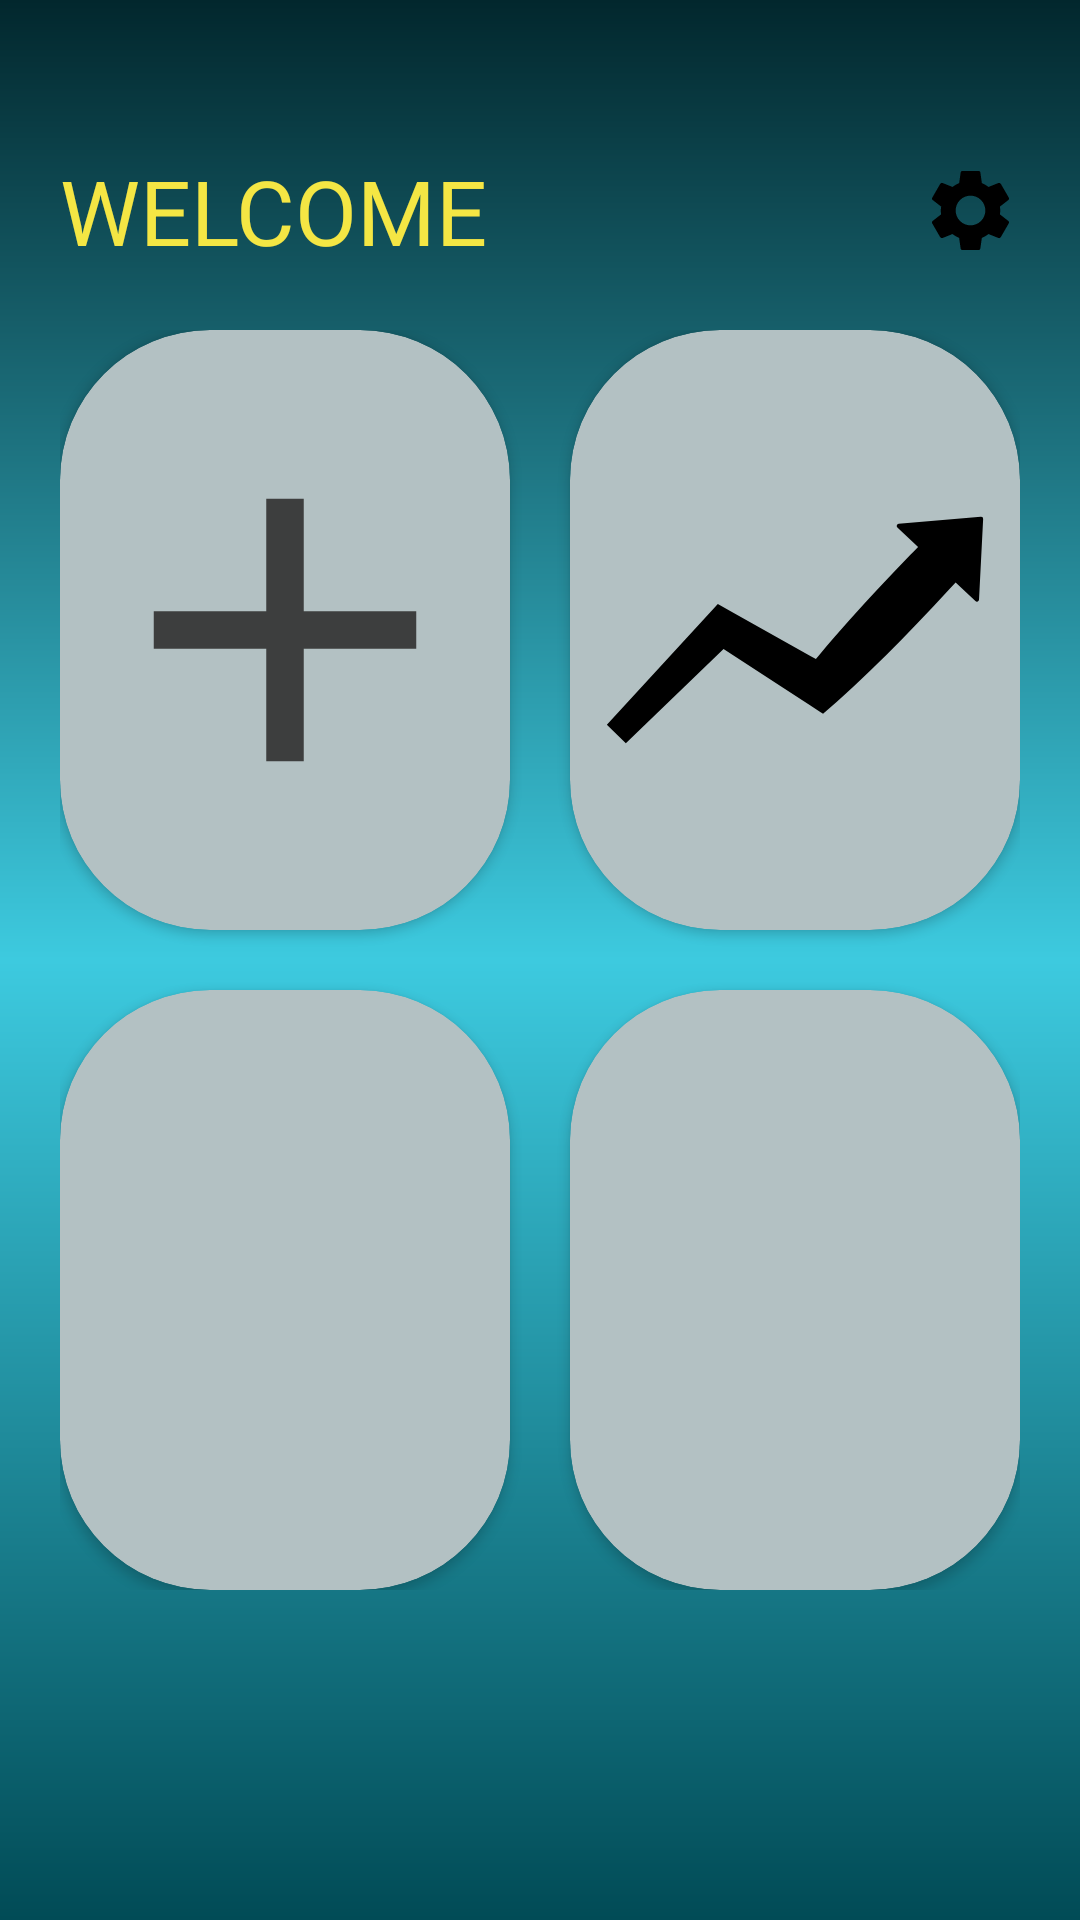

Locate icon controls on the screen. Image size 1080x1920, boxes as (x1, y1, x2, y2).
settings: (932, 171, 1009, 250)
